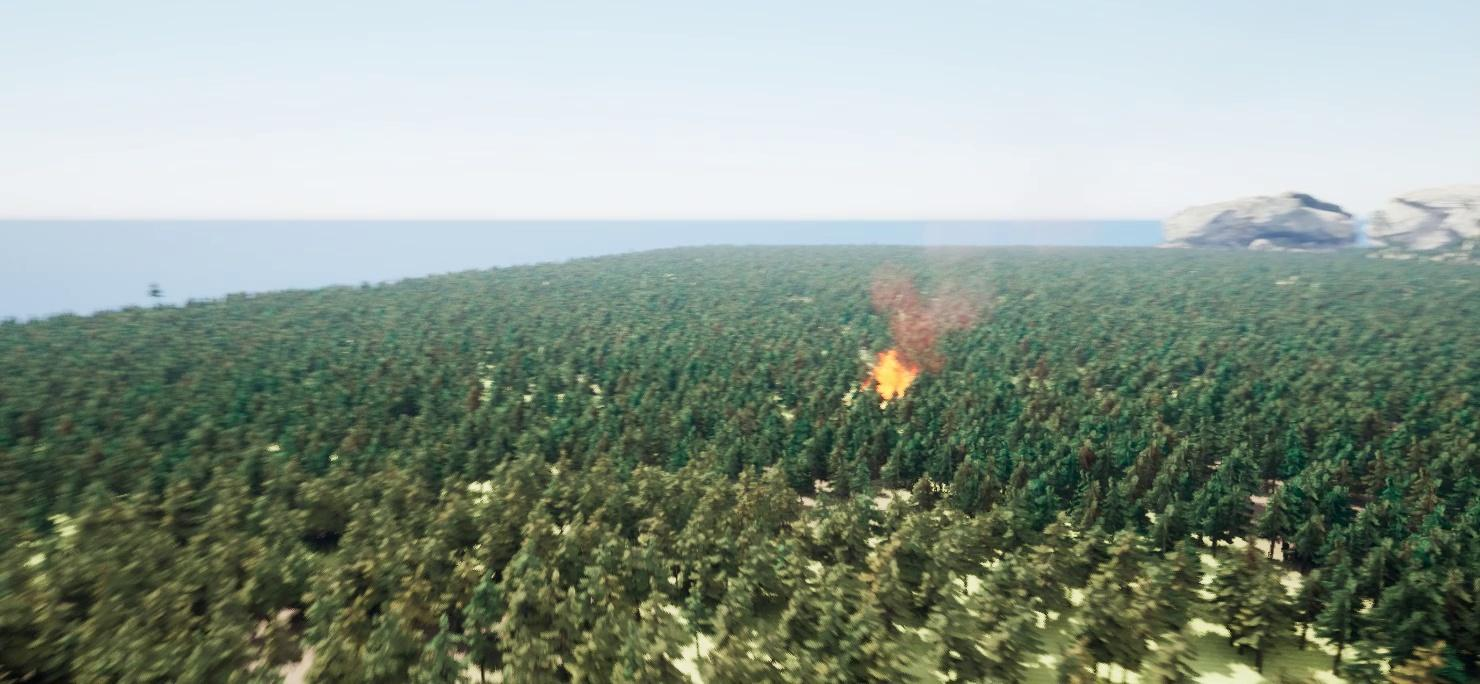fire: (859, 351, 918, 403)
smoke: (861, 259, 966, 375)
